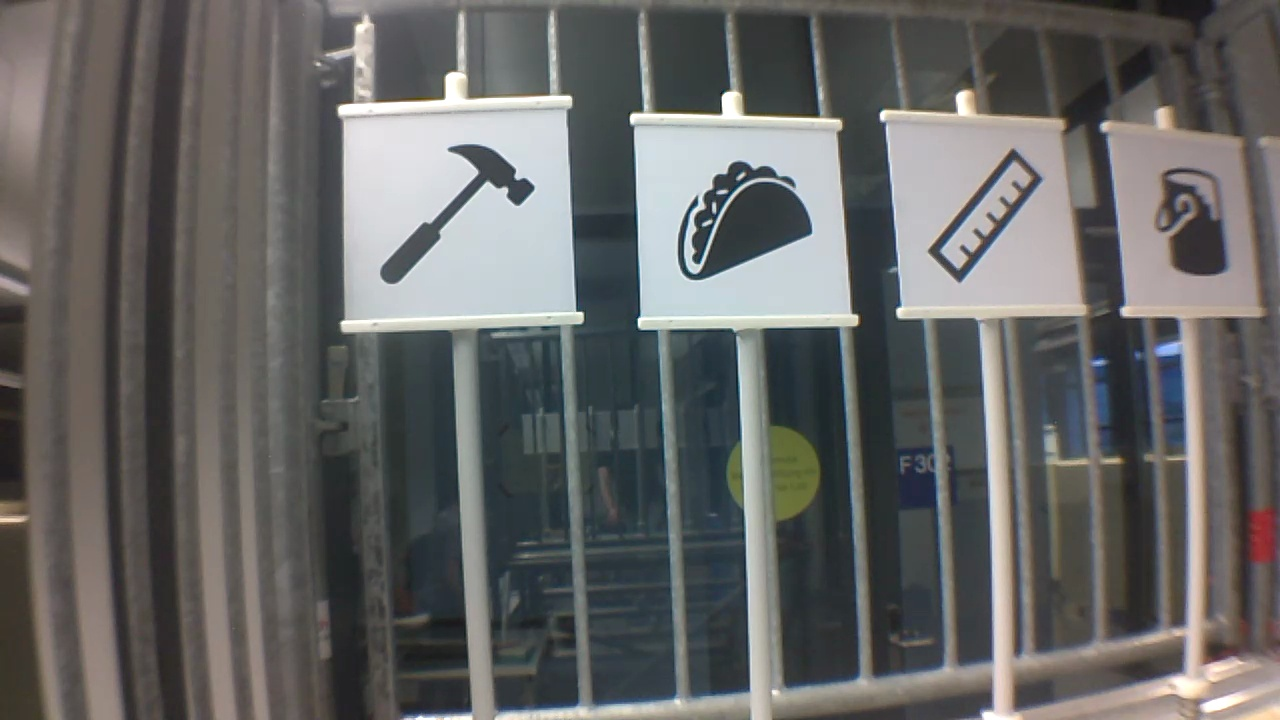bucket: (1148, 162, 1231, 278)
hammer: (372, 139, 539, 289)
ruler: (923, 143, 1046, 286)
taco: (670, 156, 820, 285)
